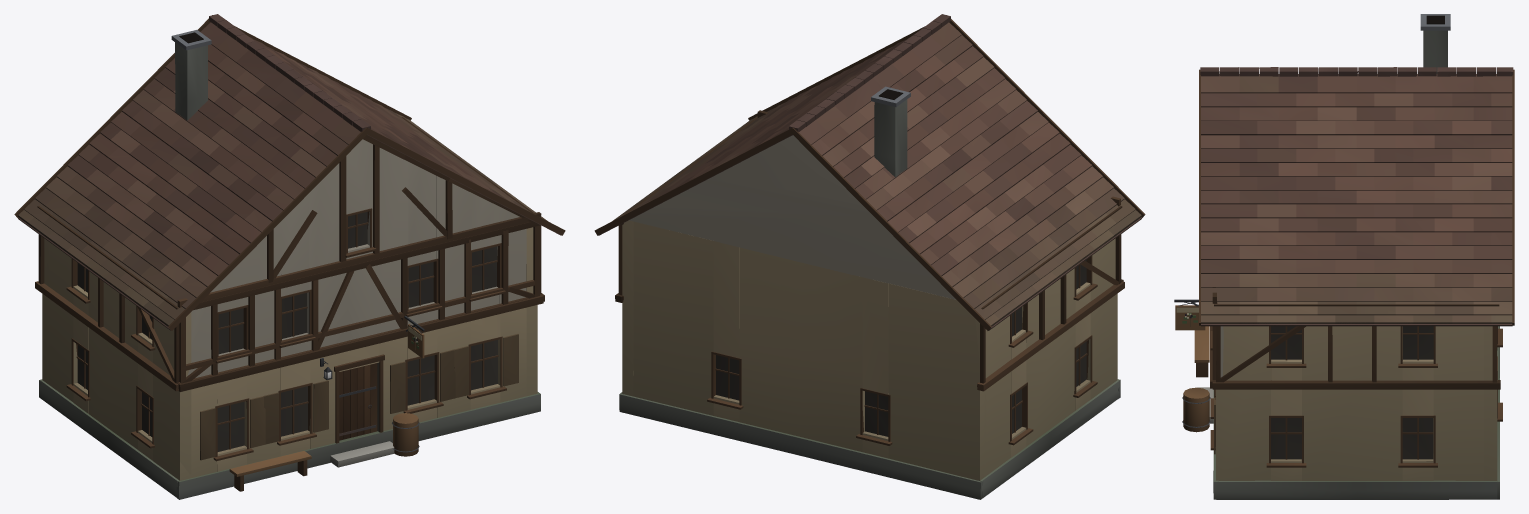
Rendered from ph_bld_v_inn.glb.
3 renders of one model, left to right at view 1: azimuth 30°, elevation 25°; view 2: azimuth 150°, elevation 25°; view 3: azimuth 270°, elevation 25°, orthographic. The views are drawn at different scales.
Parts seen in each view (by area): view 1: ph_bld_v_inn; view 2: ph_bld_v_inn; view 3: ph_bld_v_inn.
Boxes of the visible parts, x1=… form: ph_bld_v_inn: x1=14, y1=14, x2=565, y2=499; ph_bld_v_inn: x1=594, y1=14, x2=1145, y2=499; ph_bld_v_inn: x1=1174, y1=14, x2=1514, y2=499.
Bounding box in the file's own units: 10.65 × 9.06 × 7.75.
